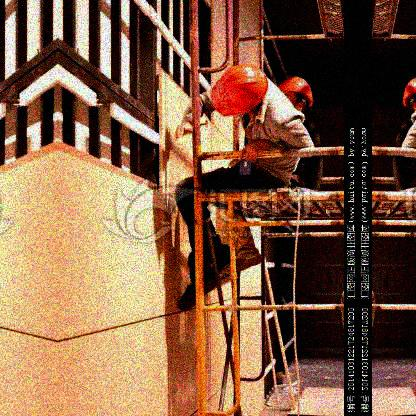helmet: (211, 68, 266, 120), (282, 75, 319, 104), (399, 75, 415, 115)
